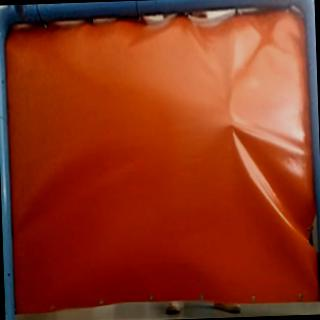Hit-hRxx: (224, 117, 239, 133)
